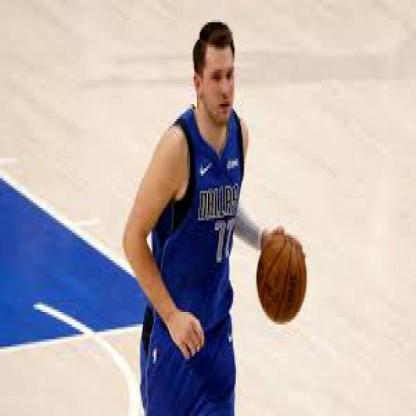basketball: (257, 236, 309, 324)
